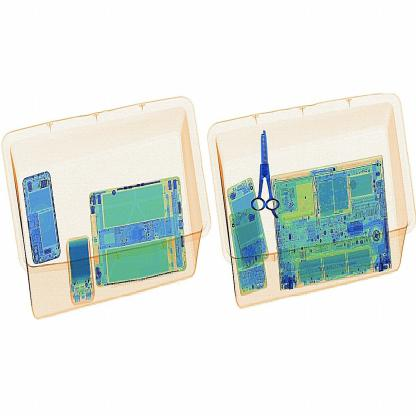gun: (249, 119, 282, 225)
